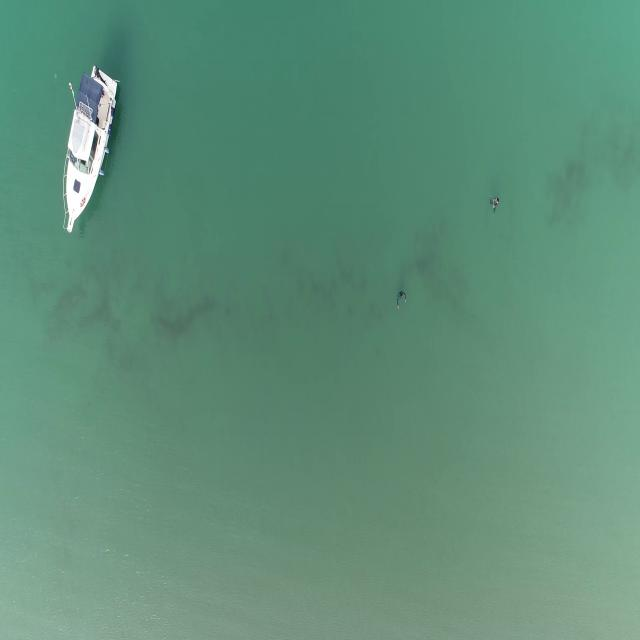boat: (59, 59, 120, 234)
person: (490, 189, 502, 218), (395, 289, 408, 311)
